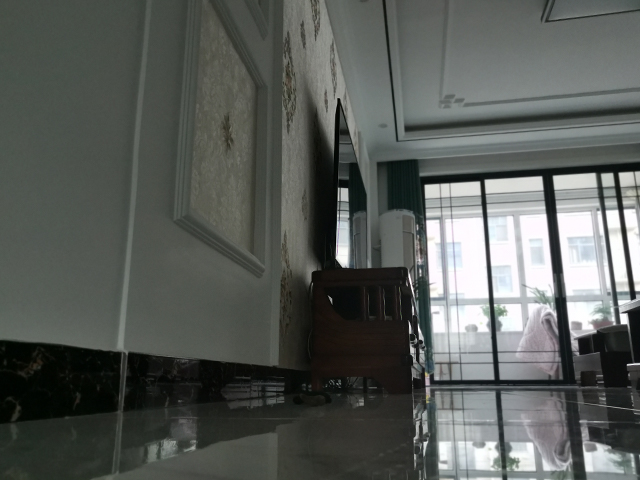cabinet: (310, 265, 428, 397)
curtain: (384, 158, 438, 375)
feces: (291, 389, 331, 407)
sofa: (571, 324, 630, 389)
table: (616, 295, 640, 393)
